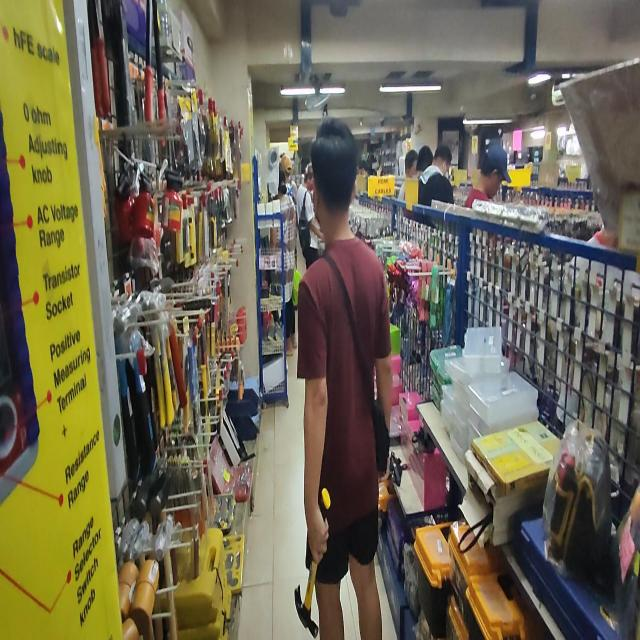hammer: (294, 486, 331, 638)
